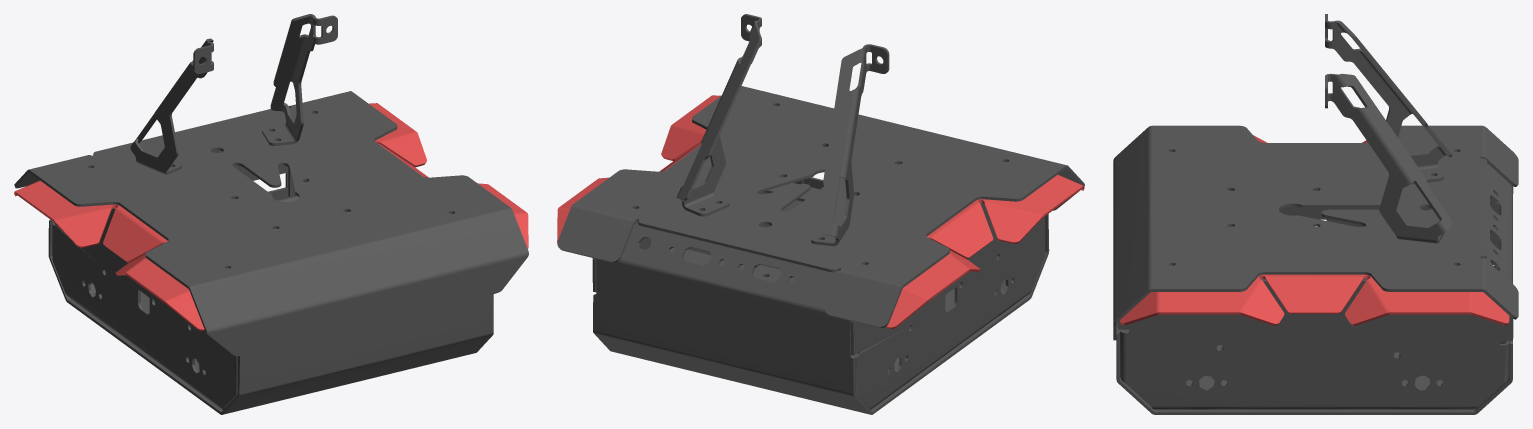
Rendered from body.glb.
3 renders of one model, left to right at view 1: azimuth 30°, elevation 25°; view 2: azimuth 150°, elevation 25°; view 3: azimuth 270°, elevation 25°, orthographic. The views are drawn at different scales.
Parts seen in each view (by area): view 1: body_black, fenders_red; view 2: body_black, fenders_red; view 3: body_black, fenders_red.
Boxes of the visible parts, box(x1,y1,x2,y2) form: body_black: box(14, 14, 528, 414); fenders_red: box(14, 103, 528, 330); body_black: box(557, 14, 1084, 414); fenders_red: box(557, 95, 1084, 328); body_black: box(1113, 14, 1518, 414); fenders_red: box(1120, 135, 1509, 325).
Bounding box in the file's own units: 214 × 166 × 199.
